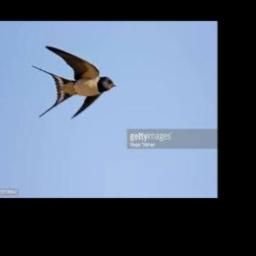Swallow: (31, 45, 116, 118)
